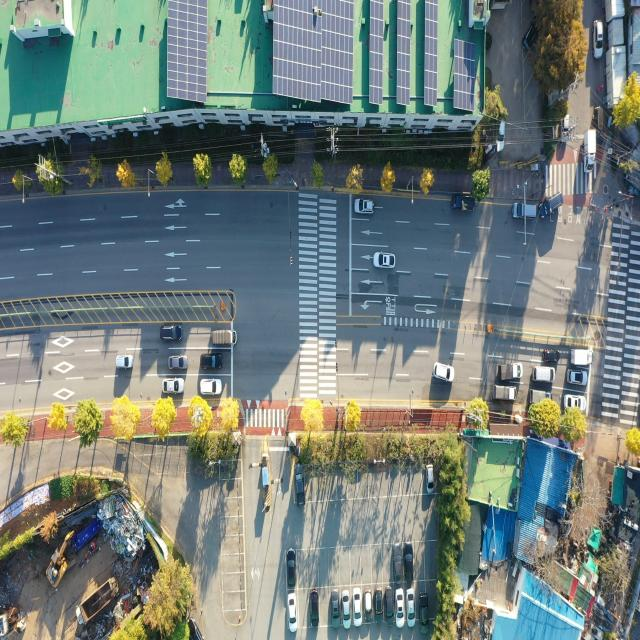car: (539, 191, 563, 221), (521, 23, 538, 53), (513, 200, 537, 220), (563, 393, 587, 412), (384, 587, 394, 628), (294, 465, 305, 502), (330, 588, 340, 628), (404, 543, 414, 583), (435, 362, 456, 381), (395, 590, 405, 628), (419, 592, 428, 634), (393, 544, 402, 584), (201, 379, 222, 396), (535, 366, 557, 382), (496, 116, 506, 151), (311, 590, 320, 628), (376, 252, 397, 268), (288, 594, 297, 631), (162, 325, 184, 340), (559, 116, 570, 146), (374, 588, 383, 624), (203, 353, 222, 370), (596, 22, 604, 59), (287, 555, 296, 587), (408, 590, 416, 626), (364, 590, 373, 622), (568, 369, 588, 383), (343, 592, 351, 627), (353, 590, 361, 624), (543, 347, 559, 364), (355, 200, 374, 214), (166, 380, 184, 394), (426, 465, 435, 492), (115, 354, 132, 368), (170, 356, 187, 369)
small_truck: (583, 127, 596, 172), (498, 360, 522, 383), (209, 331, 237, 348), (530, 389, 552, 409), (450, 197, 473, 215), (572, 348, 594, 365), (494, 385, 517, 401)
